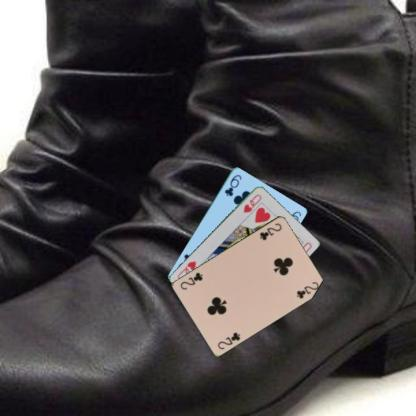2c: (257, 220, 283, 242), (215, 329, 241, 351)
6c: (222, 172, 243, 198)
Qh: (241, 191, 262, 214)
